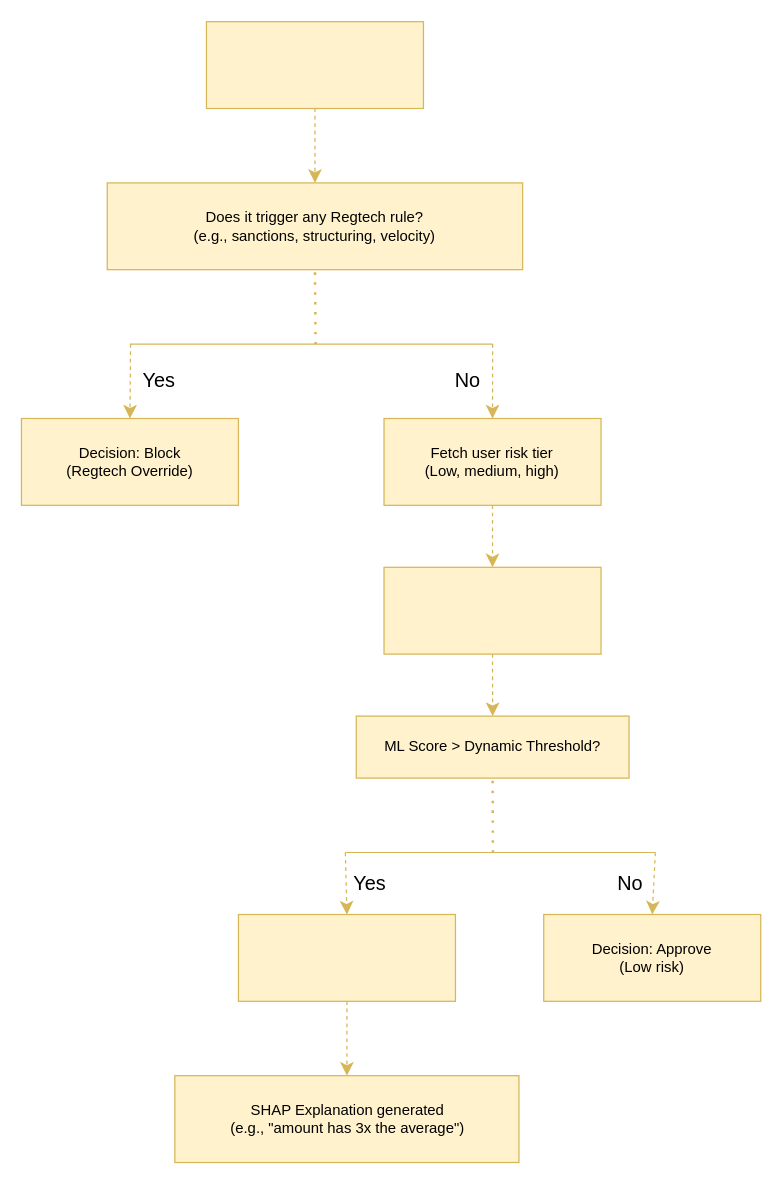
This 784x1184 diagram has some shape labels left out. The shapes that lost their labels are listed below. From the top down, each one's centre as x and y in pixels, then its label:
(314,64): Transaction Received
(492,610): Apply Dynamic Threshold - Low risk: 0.30 - Medium risk: 0.25 - High risk: 0.15
(346,957): Decision: Review (ML suspects fraud)
